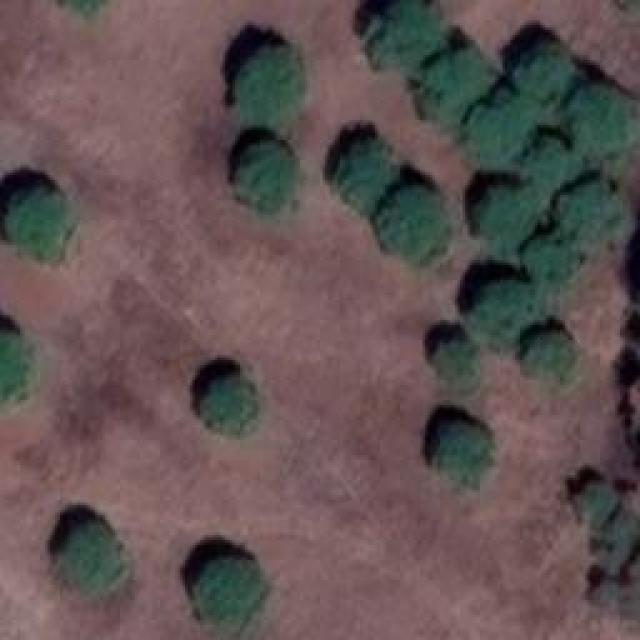Tree: (462, 103, 546, 172), (233, 48, 308, 124), (360, 0, 444, 64), (7, 188, 79, 261), (425, 55, 496, 126), (53, 520, 125, 589), (575, 85, 640, 158), (195, 557, 261, 627), (385, 193, 446, 261), (475, 283, 535, 352), (238, 145, 297, 213), (333, 140, 398, 201), (565, 190, 626, 248), (433, 425, 495, 481), (477, 182, 534, 241), (523, 44, 585, 98), (520, 144, 581, 198), (203, 372, 256, 430), (523, 335, 578, 386), (435, 330, 481, 386), (572, 474, 617, 526), (0, 333, 30, 408), (530, 245, 579, 288)
